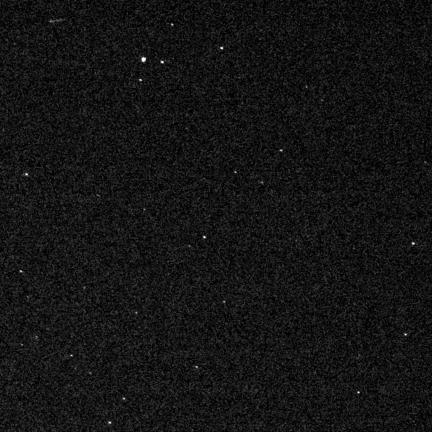blob: (141, 57, 146, 62), (280, 149, 284, 153), (25, 173, 29, 177), (404, 333, 408, 337), (71, 354, 74, 358), (234, 171, 238, 174), (139, 79, 143, 82), (123, 397, 126, 401), (19, 270, 23, 273), (161, 61, 165, 64), (412, 243, 416, 246), (220, 47, 224, 50), (203, 236, 206, 239), (223, 301, 226, 304), (357, 392, 360, 394)
